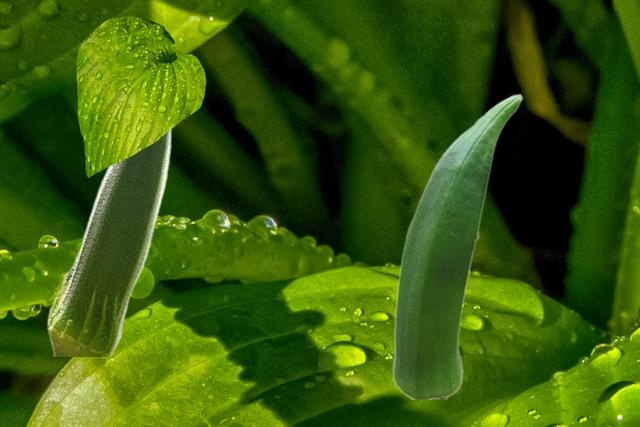okra: (46, 35, 173, 355), (391, 93, 522, 398)
